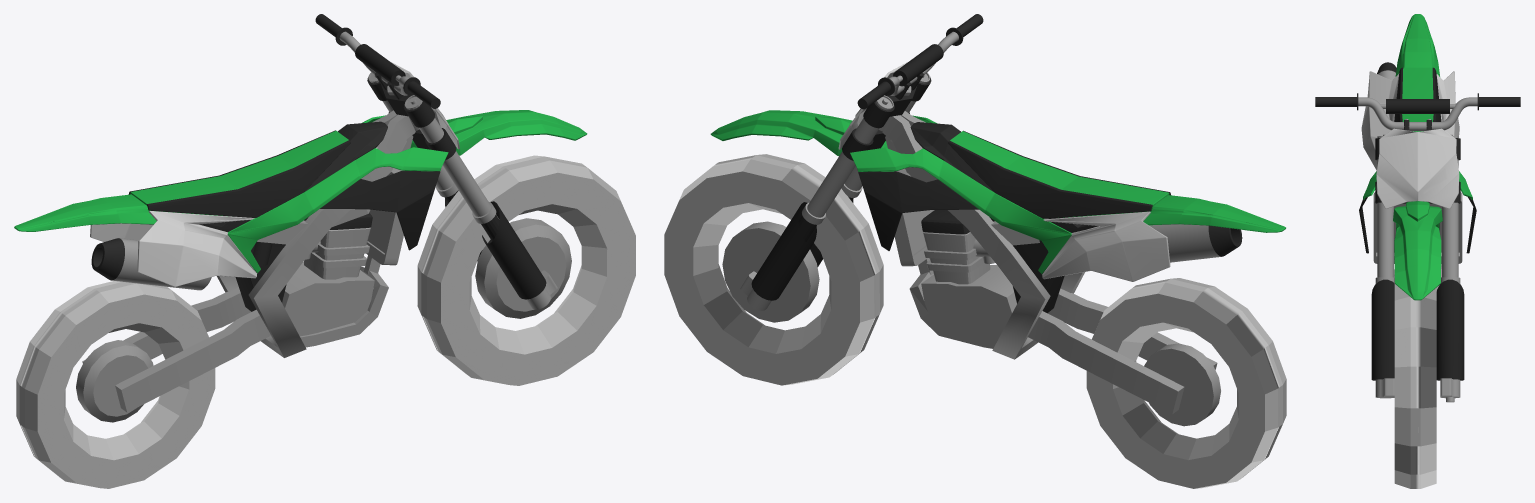
File: moto.fbx
3 views of the same model, side by side, from view 1: azimuth 30°, elevation 25°; view 2: azimuth 150°, elevation 25°; view 3: azimuth 270°, elevation 25° (orthographic). The views are drawn at different scales.
Parts seen in each view (by area): view 1: polySurface927; view 2: polySurface927; view 3: polySurface927.
Part boxes in pixels (<box>): polySurface927: <box>14,14,635,488</box>; polySurface927: <box>664,14,1286,488</box>; polySurface927: <box>1315,14,1520,488</box>.
Size of the model in its own units: 249 by 141 by 81.21.
